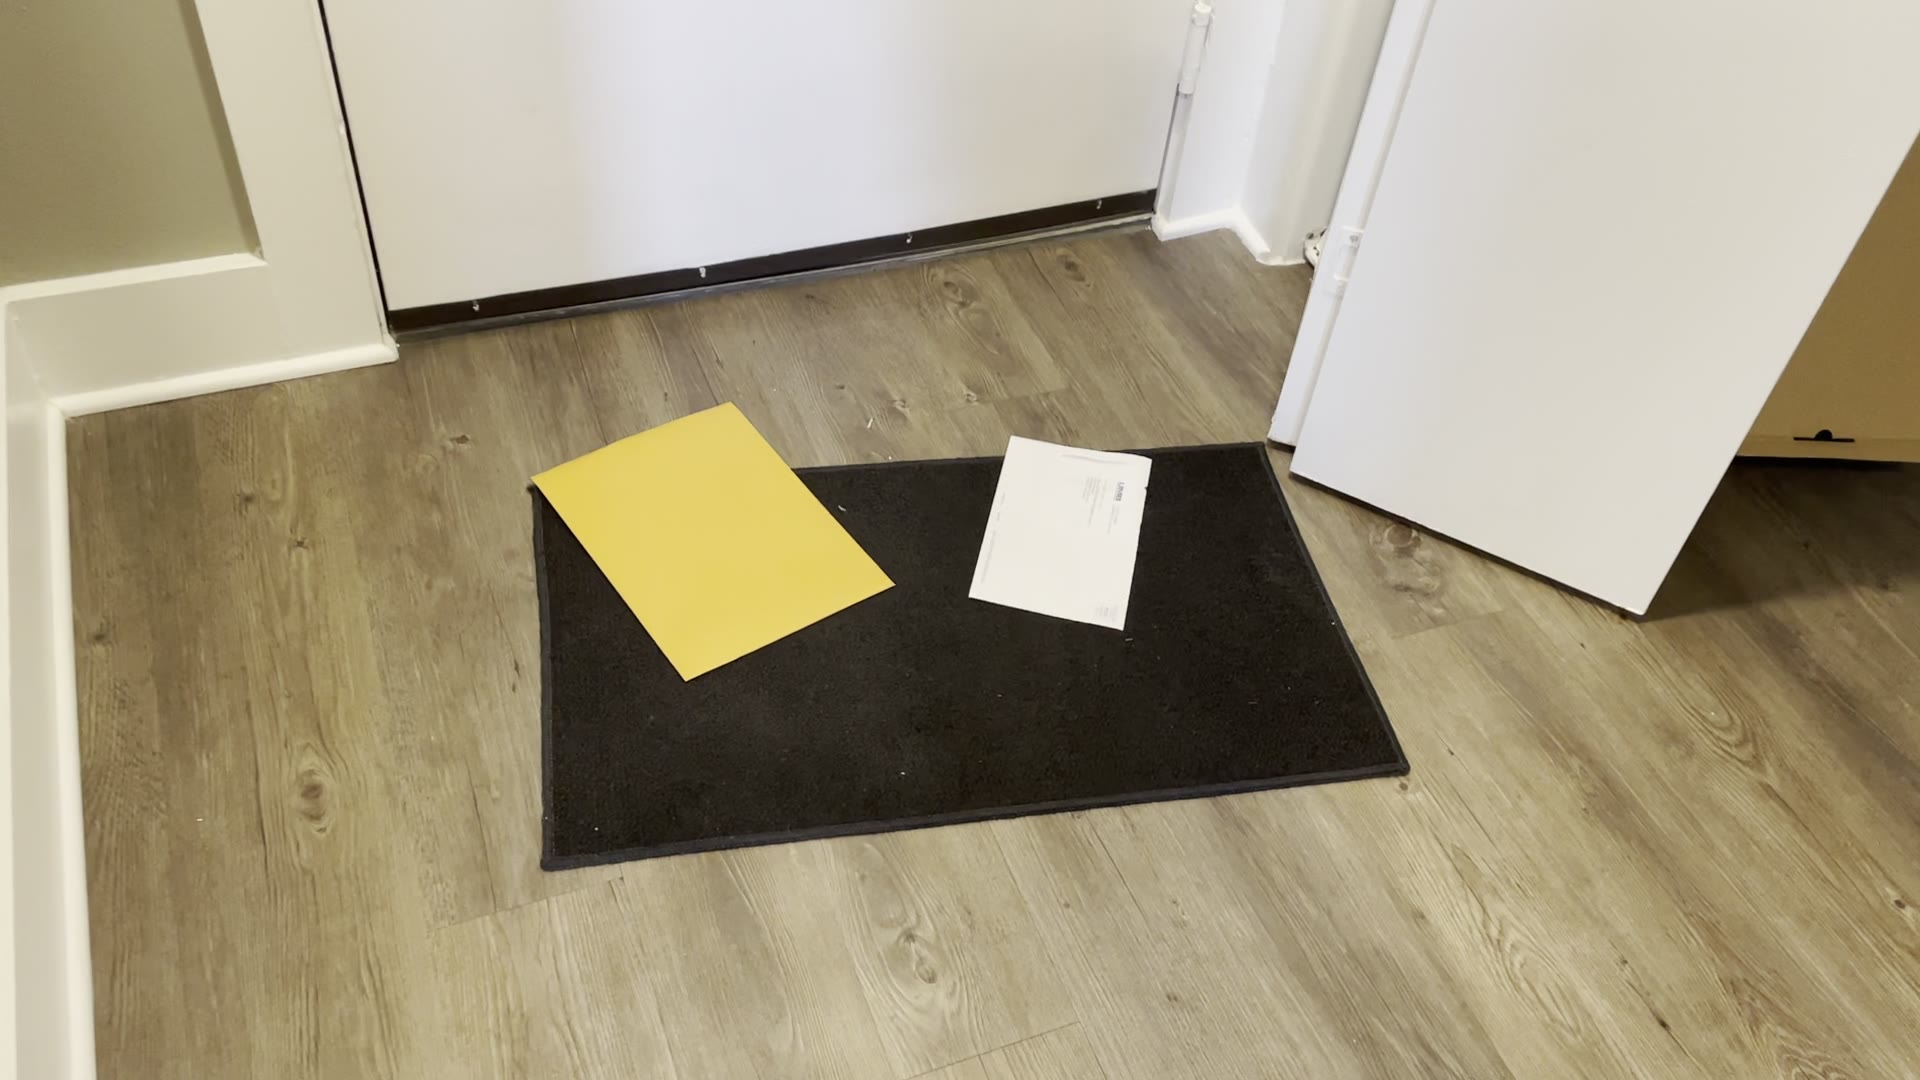envelope: (520, 396, 898, 683), (960, 429, 1160, 622)
